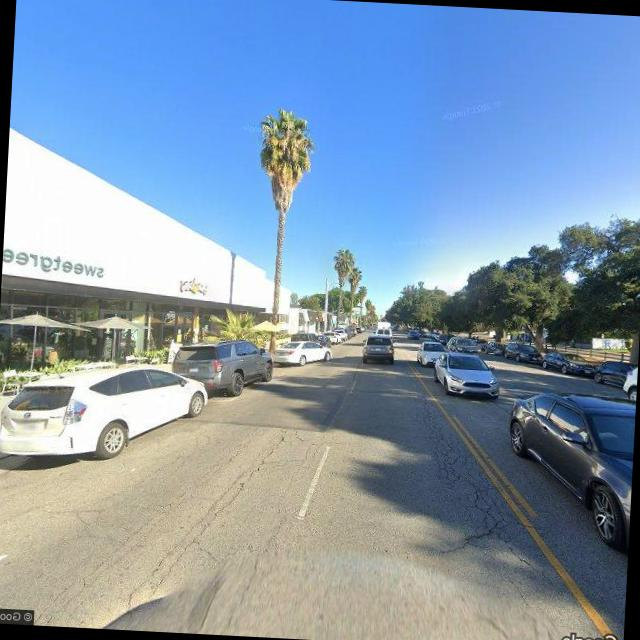crack: (59, 413, 323, 632), (420, 425, 550, 570)
